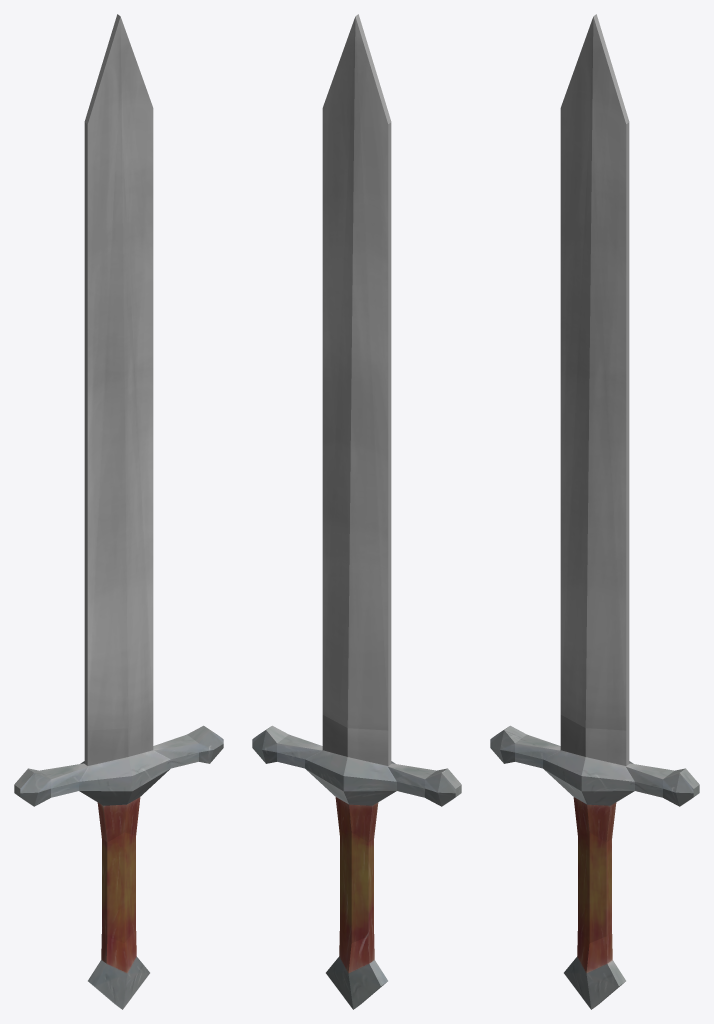
The model's file is Sword2.fbx.
The picture shows the model from 3 angles, left to right: view 1: azimuth 30°, elevation 25°; view 2: azimuth 150°, elevation 25°; view 3: azimuth 330°, elevation 25°; orthographic projection.
Visible parts, largest first — view 1: Cube; view 2: Cube; view 3: Cube.
Part boxes in pixels (<box>): Cube: <box>14,14,223,1009</box>; Cube: <box>252,14,461,1009</box>; Cube: <box>490,14,699,1009</box>.
Size of the model in its own units: 25.29 by 118 by 5.8.
